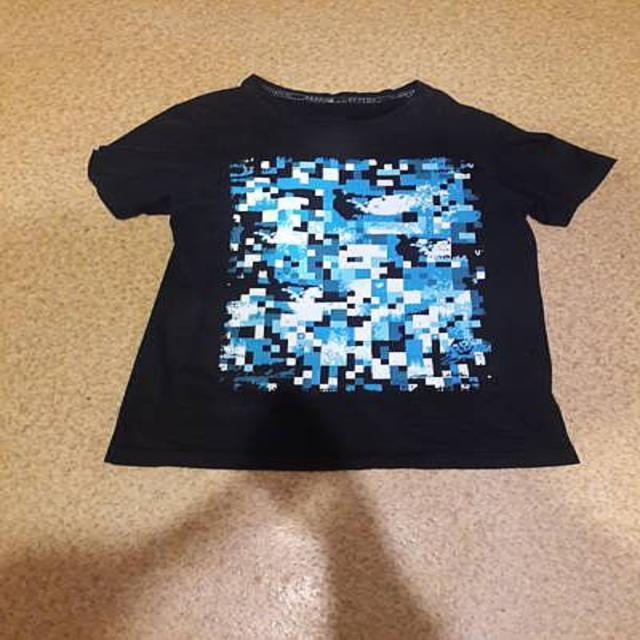T_SHIRT: (78, 69, 620, 484)
